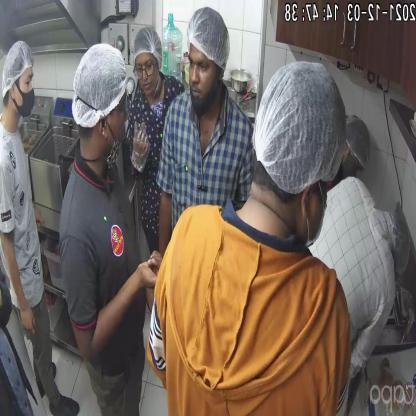no_apron: (160, 94, 248, 258), (0, 128, 50, 295)
